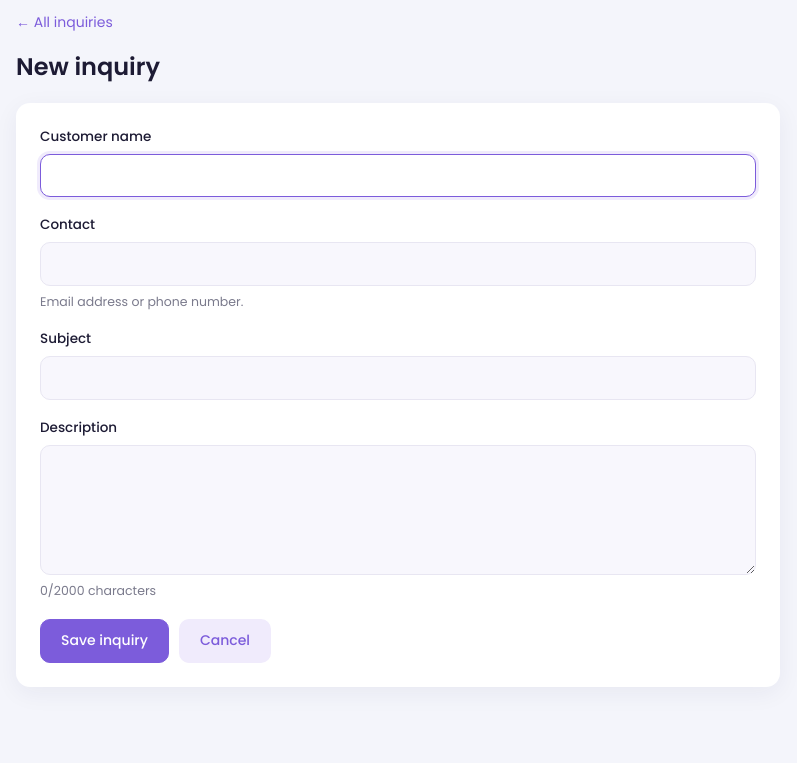
it: NewInquiryPage › links to the existing inquiry when the server reports a duplicate
The width and height of the screenshot is (797, 763).
Type "Jane Customer" into the field labelled "Customer name" at x=398, y=176, box [40,154,756,198]
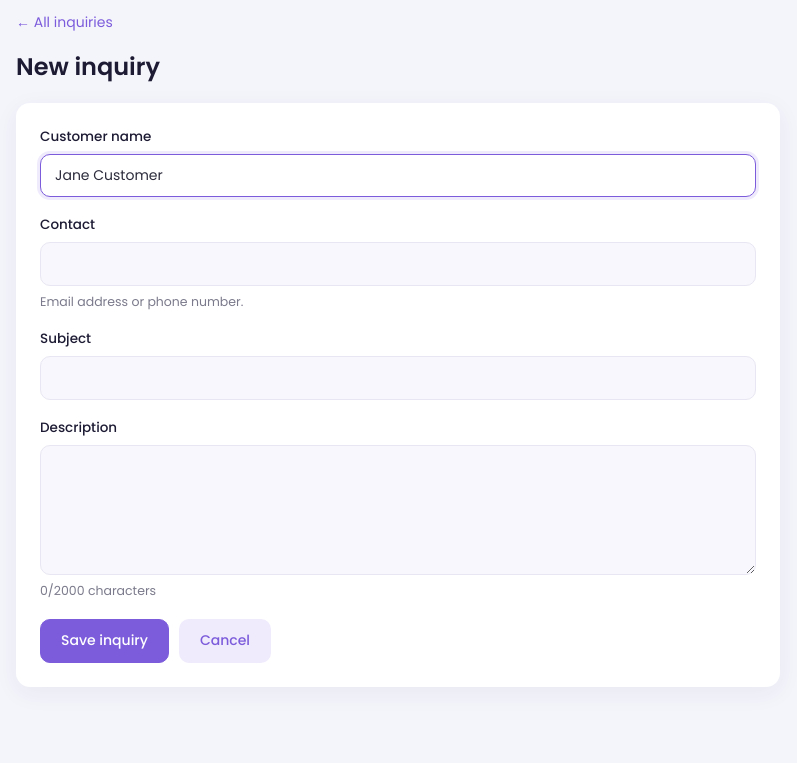
Type "jane@example.com" into the field labelled "Contact" at x=398, y=264, box [40,242,756,286]
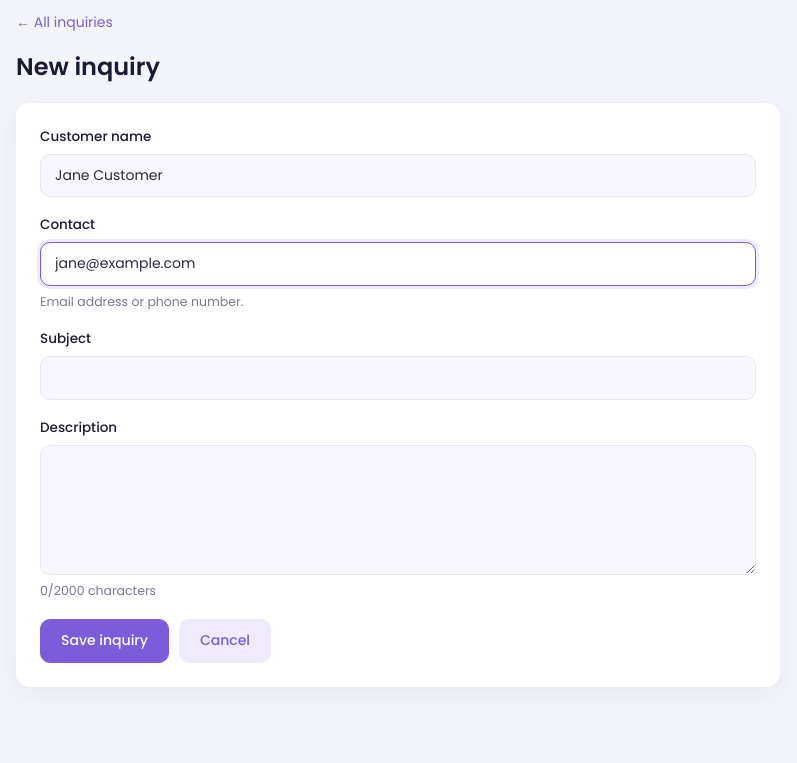
Type "Booking change" into the field labelled "Subject" at x=398, y=378, box [40,356,756,400]
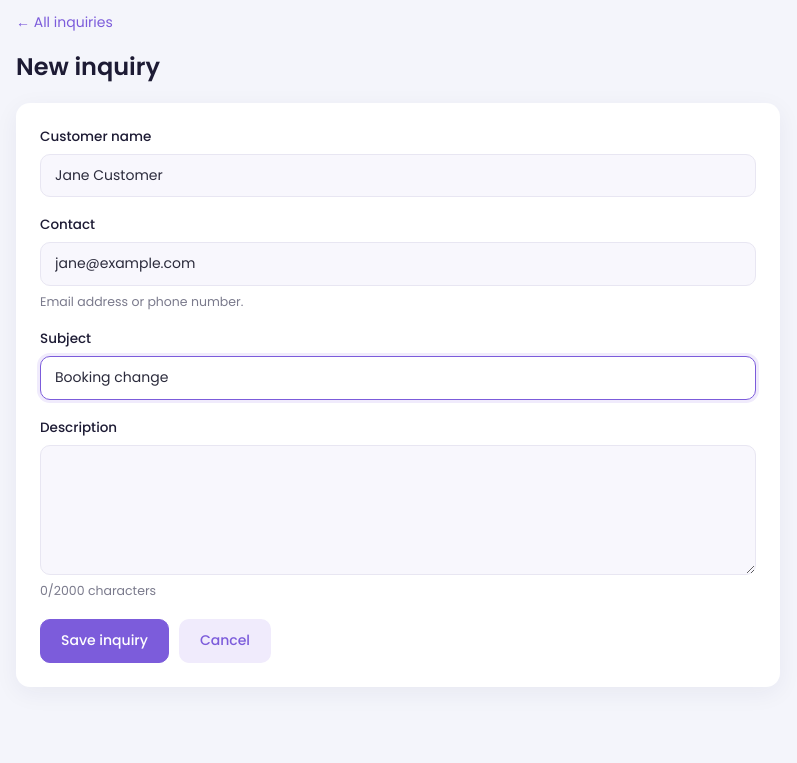
Type "Move to Friday please." into the text box labelled "Description" at x=398, y=510, box [40,445,756,575]
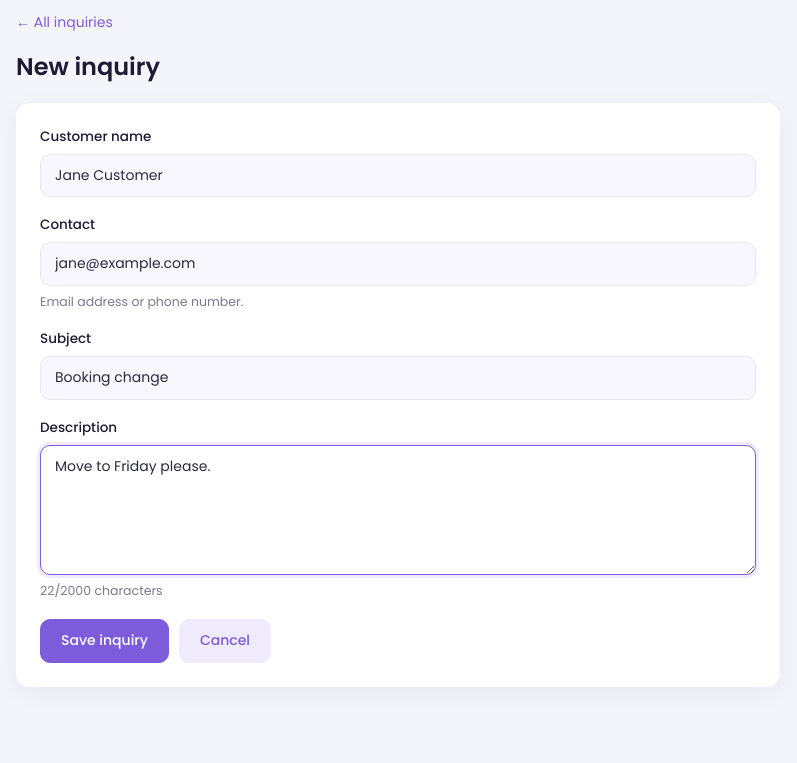
Click the button "Save inquiry" at x=104, y=641, box [40,619,169,662]
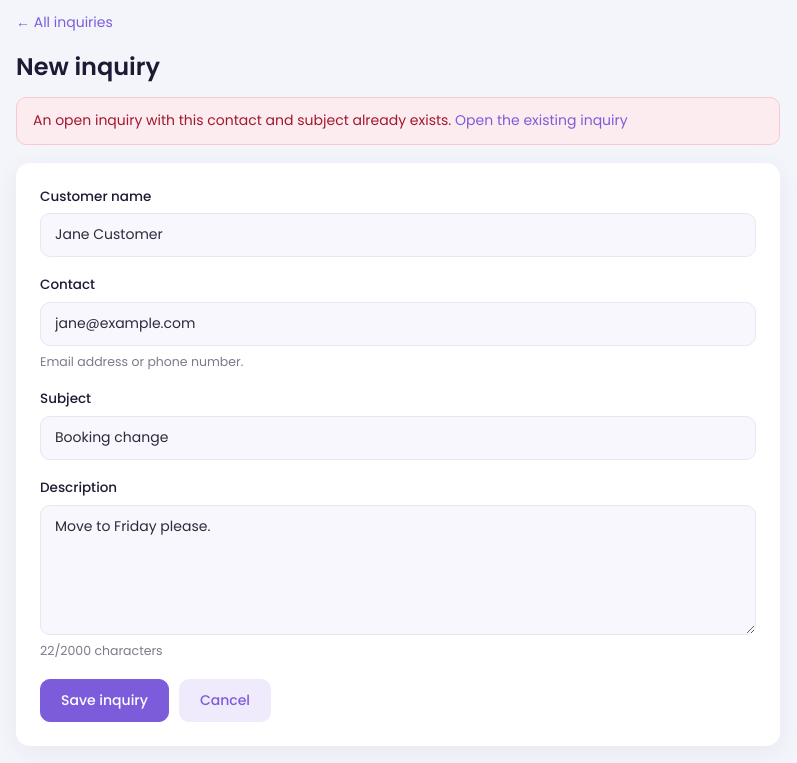
Check: the message shows "already exists", box [33,110,451,130]
